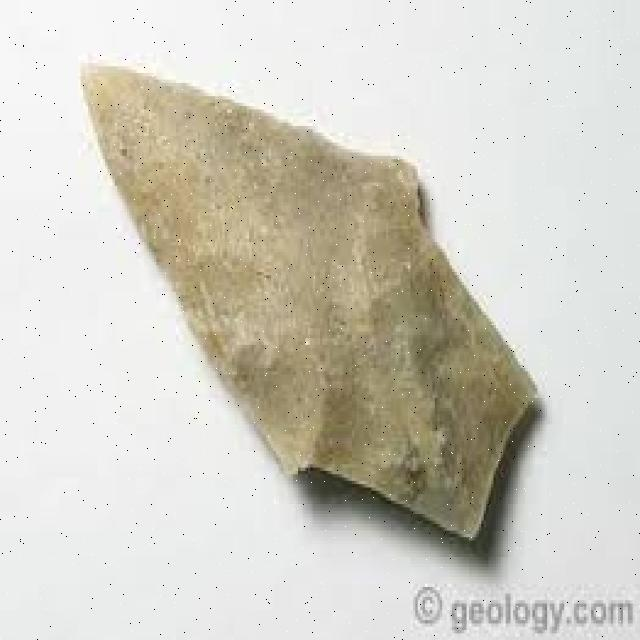Metamorphic: (76, 60, 544, 544)
